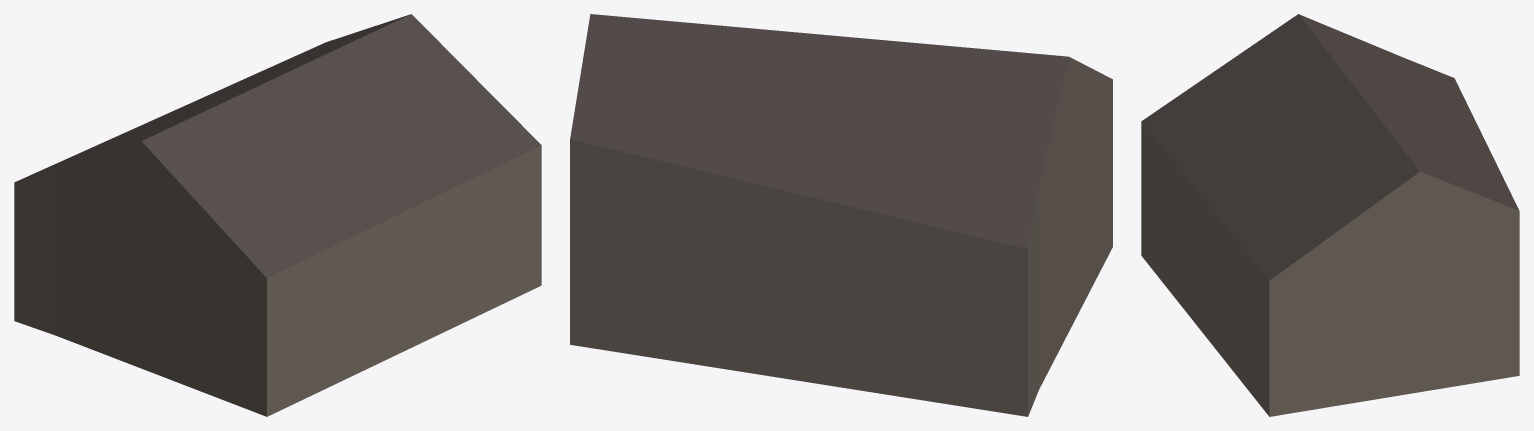
3 renders of one model, left to right at view 1: azimuth 30°, elevation 25°; view 2: azimuth 150°, elevation 25°; view 3: azimuth 270°, elevation 25°, orthographic. The views are drawn at different scales.
Visible parts, largest first — view 1: HP-w1198893543; view 2: HP-w1198893543; view 3: HP-w1198893543.
Part boxes in pixels (x1,y1,x2,y2): HP-w1198893543: (14, 14, 541, 416); HP-w1198893543: (570, 14, 1112, 416); HP-w1198893543: (1141, 14, 1519, 416).
Size of the model in its own units: 19.56 by 9.85 by 15.29.
